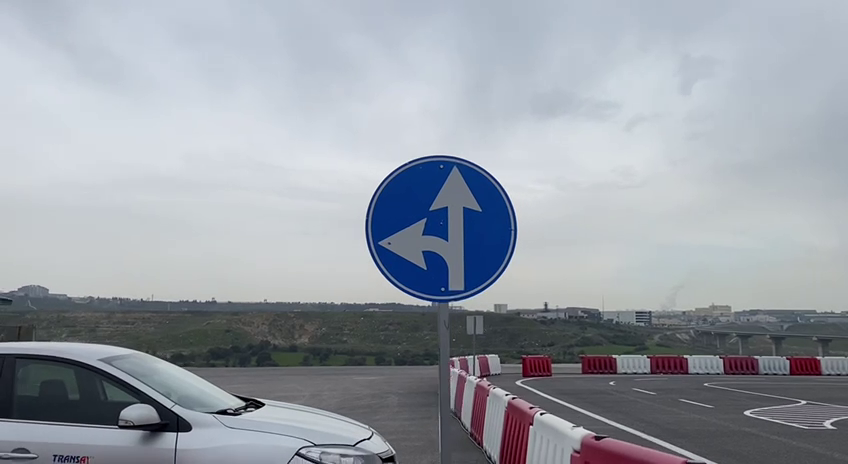forwardAndLeft: (364, 153, 522, 305)
